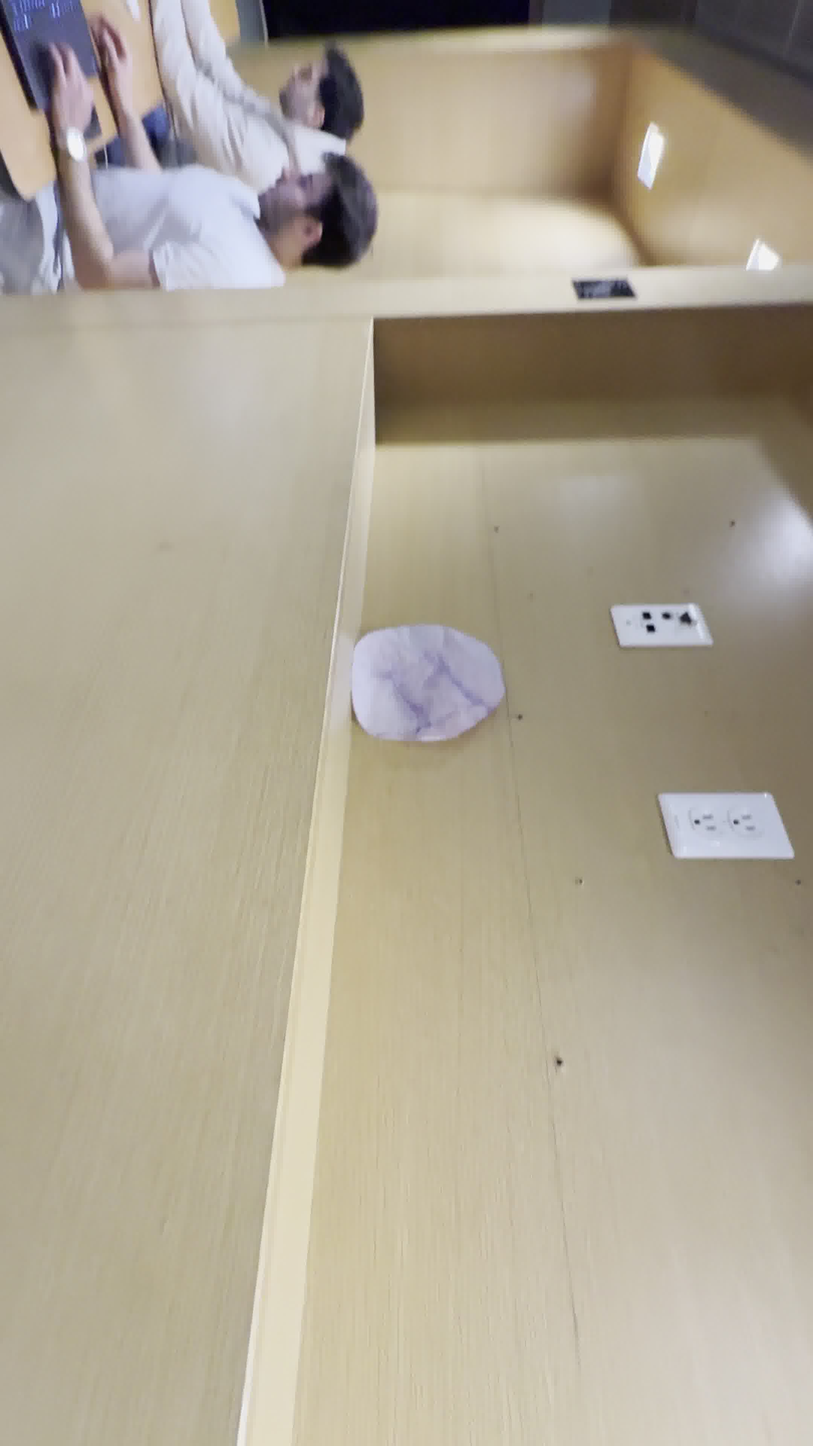Target: (352, 624, 505, 745)
